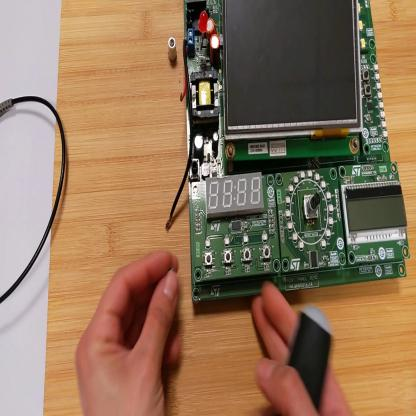hand: (78, 251, 182, 410), (251, 281, 351, 412)
low voltage board: (167, 1, 412, 304)
oscilloscope probe tip: (2, 96, 12, 120)
screwdriver-: (285, 309, 340, 397)
working area: (44, 1, 416, 416)
